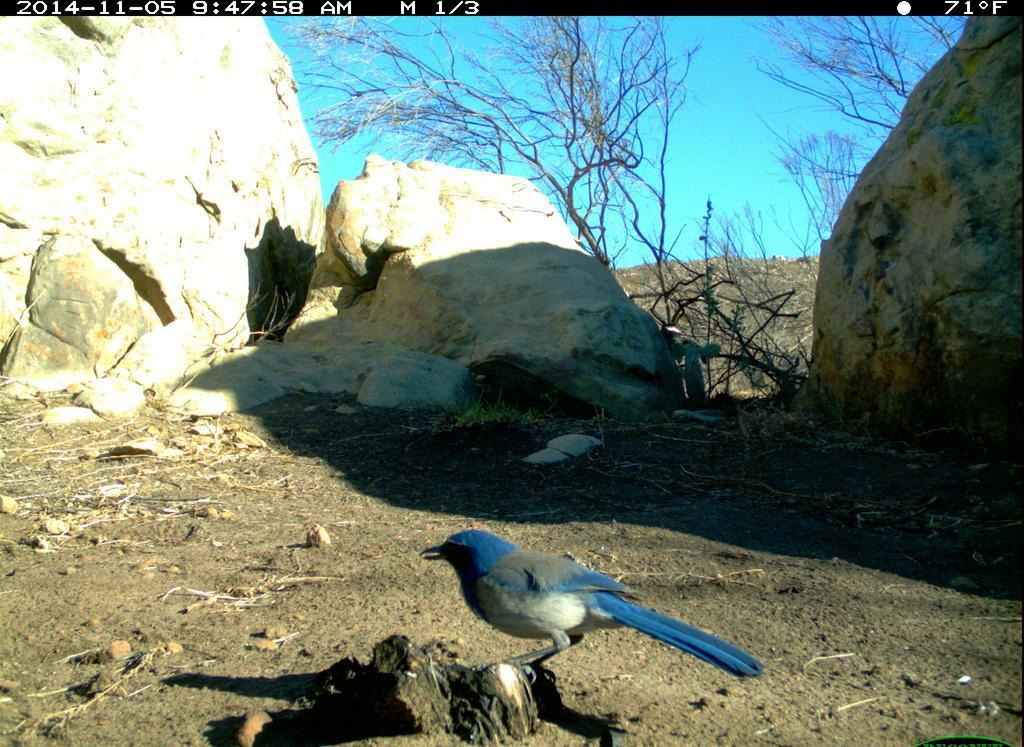bird: (423, 527, 767, 681)
